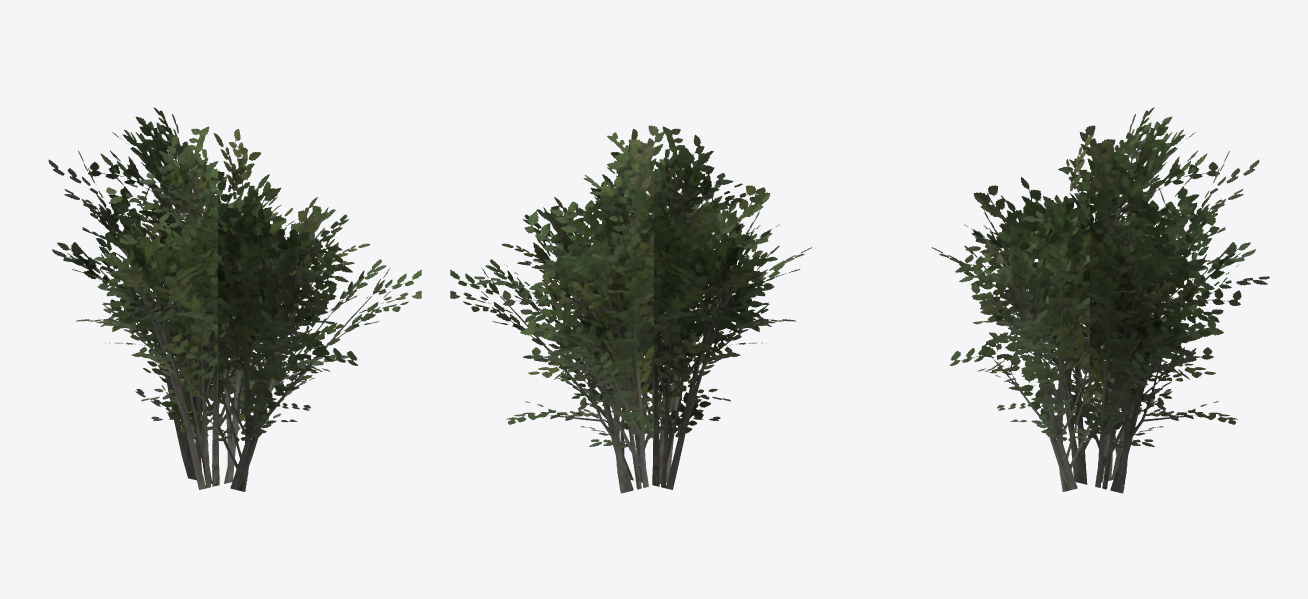
Rendered from hloh_2_daleko.glb.
3 views of the same model, side by side, from view 1: azimuth 30°, elevation 25°; view 2: azimuth 150°, elevation 25°; view 3: azimuth 270°, elevation 25° (orthographic).
Parts seen in each view (by area): view 1: hloh_2_daleko; view 2: hloh_2_daleko; view 3: hloh_2_daleko.
Part boxes in pixels (<box>): hloh_2_daleko: <box>48,107,421,491</box>; hloh_2_daleko: <box>450,125,811,493</box>; hloh_2_daleko: <box>932,107,1269,493</box>.
Bounding box in the file's own units: 2.82 × 2.46 × 2.45.
Materials: 3 (3 with a texture image).
